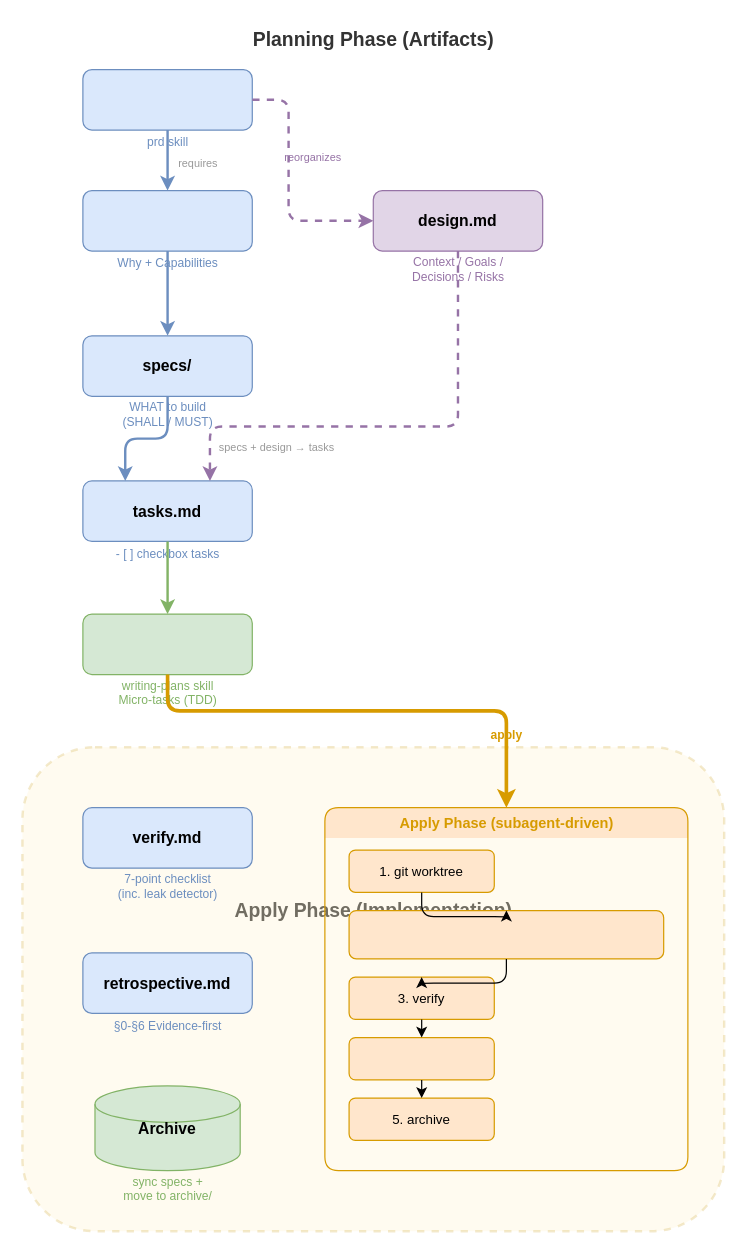
The diagram is 745 pixels wide and 1252 high, and some of its shapes have lost their labels. The box of each missing label's shape, as (x1, y1, x2, y2) in pixels:
2. subagent-driven (TDD + code-review): (348, 909, 664, 959)
4. retrospective: (348, 1036, 494, 1080)
plan.md: (82, 613, 252, 675)
prd.md: (82, 68, 252, 130)
proposal.md: (82, 189, 252, 251)
